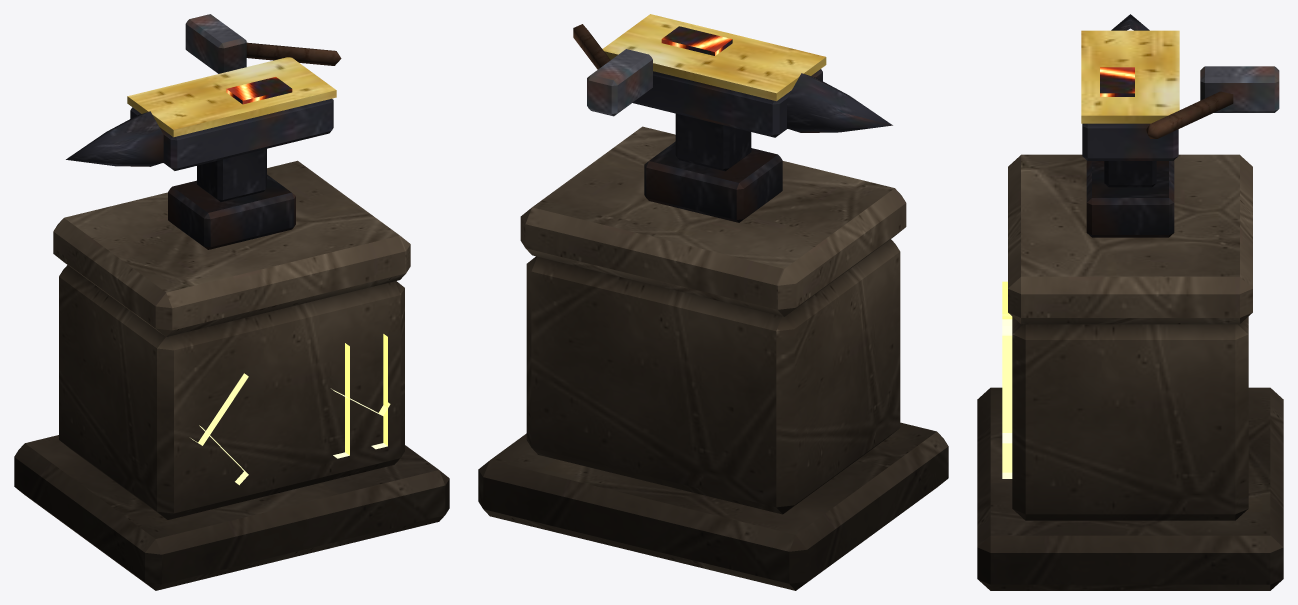
File: interior_dwarf_anvil.glb
3 views of the same model, side by side, from view 1: azimuth 30°, elevation 25°; view 2: azimuth 150°, elevation 25°; view 3: azimuth 270°, elevation 25° (orthographic). The views are drawn at different scales.
Visible parts, largest first — view 1: interior_dwarf_anvil; view 2: interior_dwarf_anvil; view 3: interior_dwarf_anvil.
Boxes of the visible parts, <box> form: interior_dwarf_anvil: <box>14,14,449,590</box>; interior_dwarf_anvil: <box>478,14,948,590</box>; interior_dwarf_anvil: <box>977,14,1283,590</box>.
Bounding box in the file's own units: 0.9 × 1.17 × 0.7.
6 materials, 5 textured.
